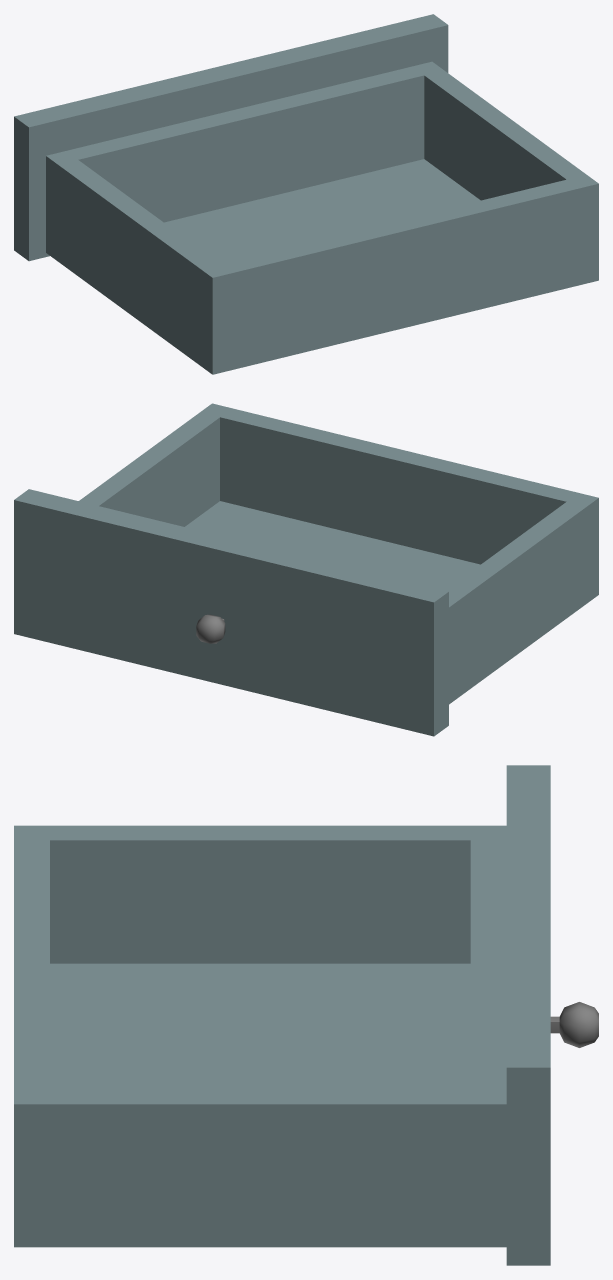
Rendered from TiroireArmoire02.fbx.
3 renders of one model, top to bottom at view 1: azimuth 30°, elevation 25°; view 2: azimuth 150°, elevation 25°; view 3: azimuth 270°, elevation 25°, orthographic. The views are drawn at different scales.
Visible parts, largest first — view 1: TiroireArmoire02; view 2: TiroireArmoire02; view 3: TiroireArmoire02.
Part boxes in pixels (x1,y1,x2,y2): TiroireArmoire02: [14, 14, 598, 374]; TiroireArmoire02: [14, 403, 598, 736]; TiroireArmoire02: [14, 765, 598, 1265].
Bounding box in the file's own units: 78.08 × 23.81 × 63.84.
